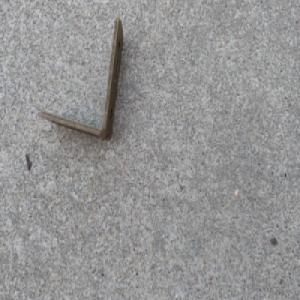MetalPart: (40, 16, 123, 143)
